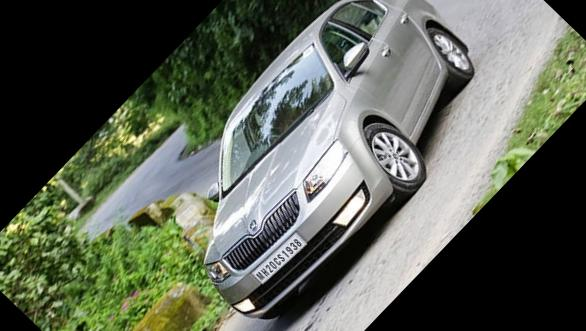plate: (234, 213, 322, 302)
